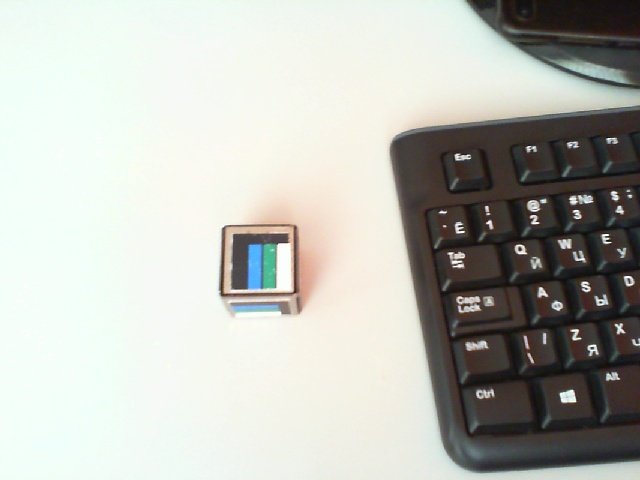square: (231, 233, 289, 290)
